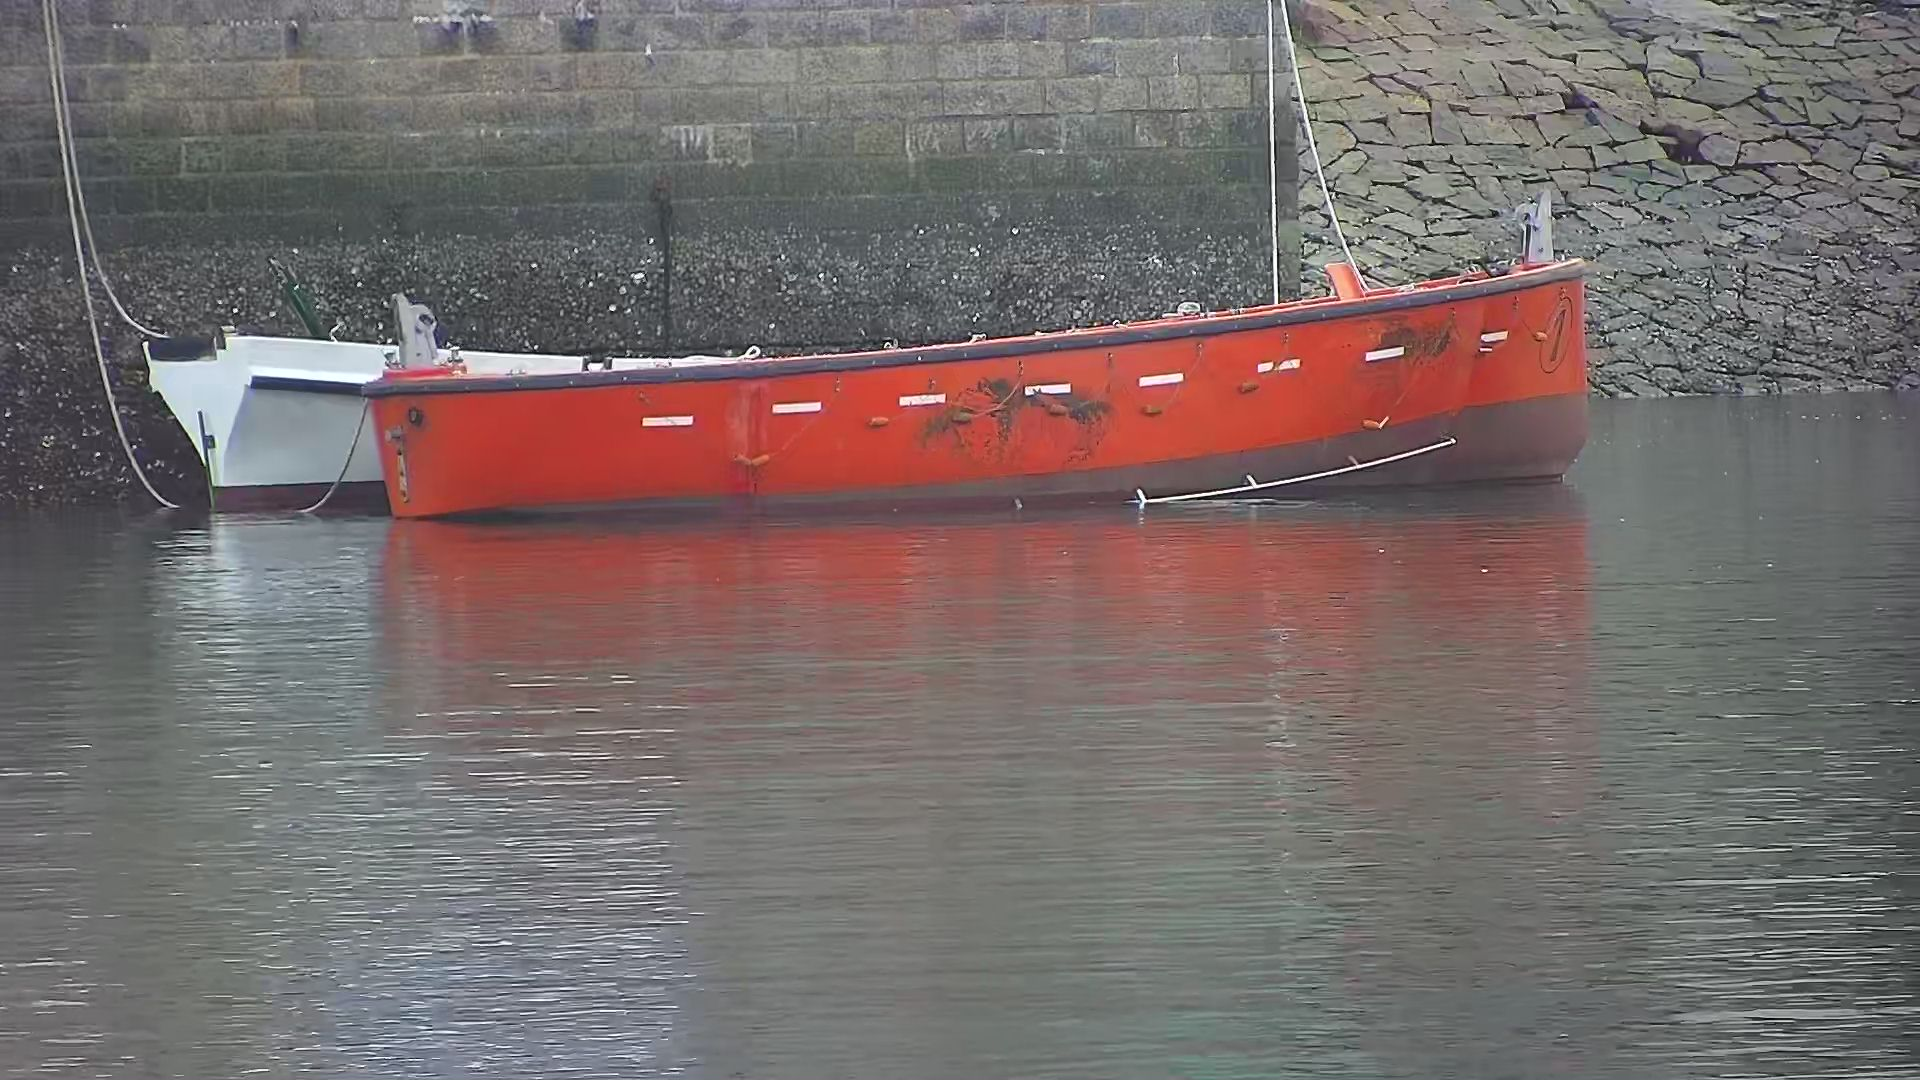boat: (363, 265, 1578, 520)
